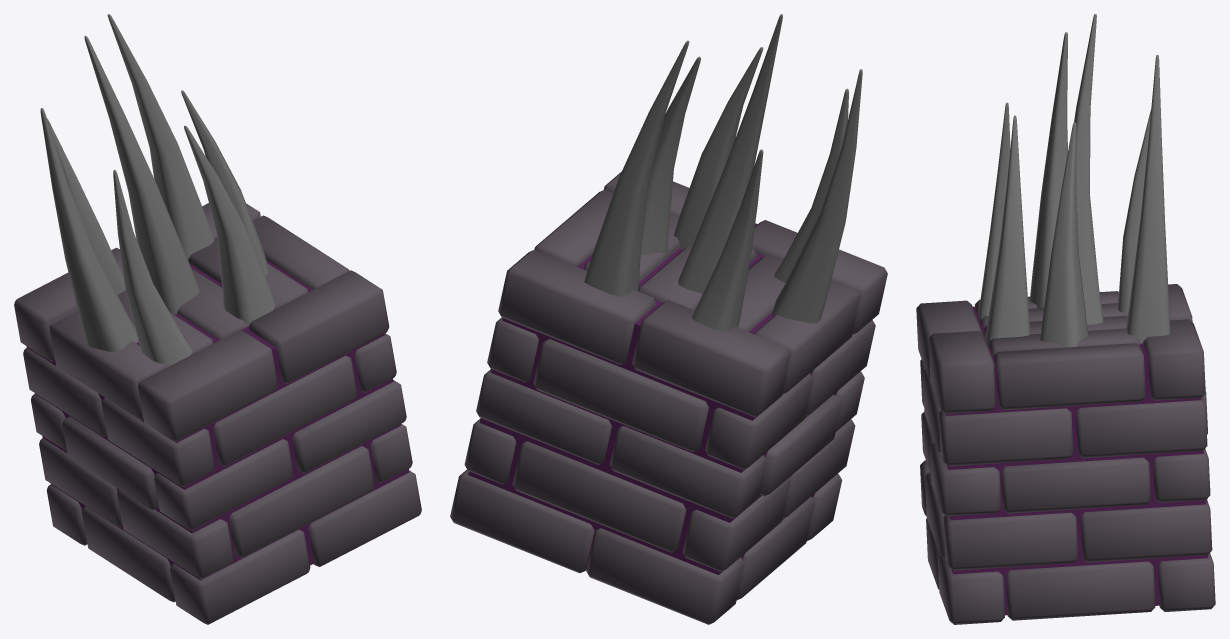
The model's file is spike_cube.glb.
3 renders of one model, left to right at view 1: azimuth 30°, elevation 25°; view 2: azimuth 150°, elevation 25°; view 3: azimuth 270°, elevation 25°, orthographic. The views are drawn at different scales.
Parts seen in each view (by area): view 1: Cube_Bricks.001; view 2: Cube_Bricks.001; view 3: Cube_Bricks.001.
Boxes of the visible parts, x1,y1,x2,y2 form: Cube_Bricks.001: (14,14,421,624); Cube_Bricks.001: (450,14,887,624); Cube_Bricks.001: (916,14,1215,624).
Size of the model in its own units: 2.75 by 4.36 by 2.23.
